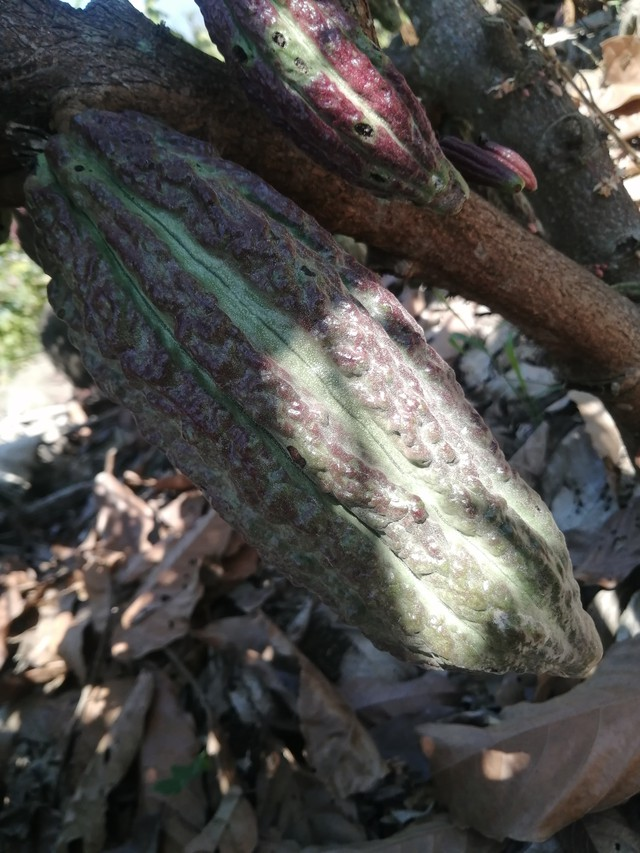Health: (20, 103, 622, 687)
